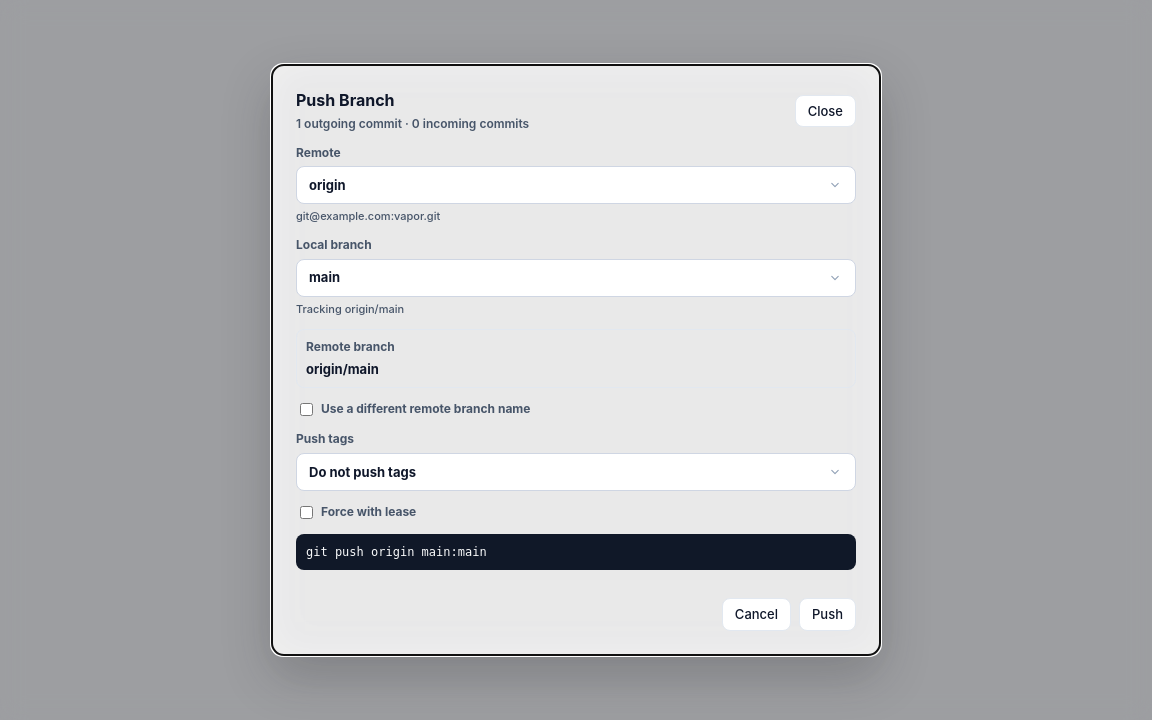
Scenario: PushDialog › shows progress while pushing and closes after a successful push
This screenshot has width=1152, height=720.
Select "Push all tags" in the dropdown labelled "Push tags" at [576, 472], box [296,453,856,491]
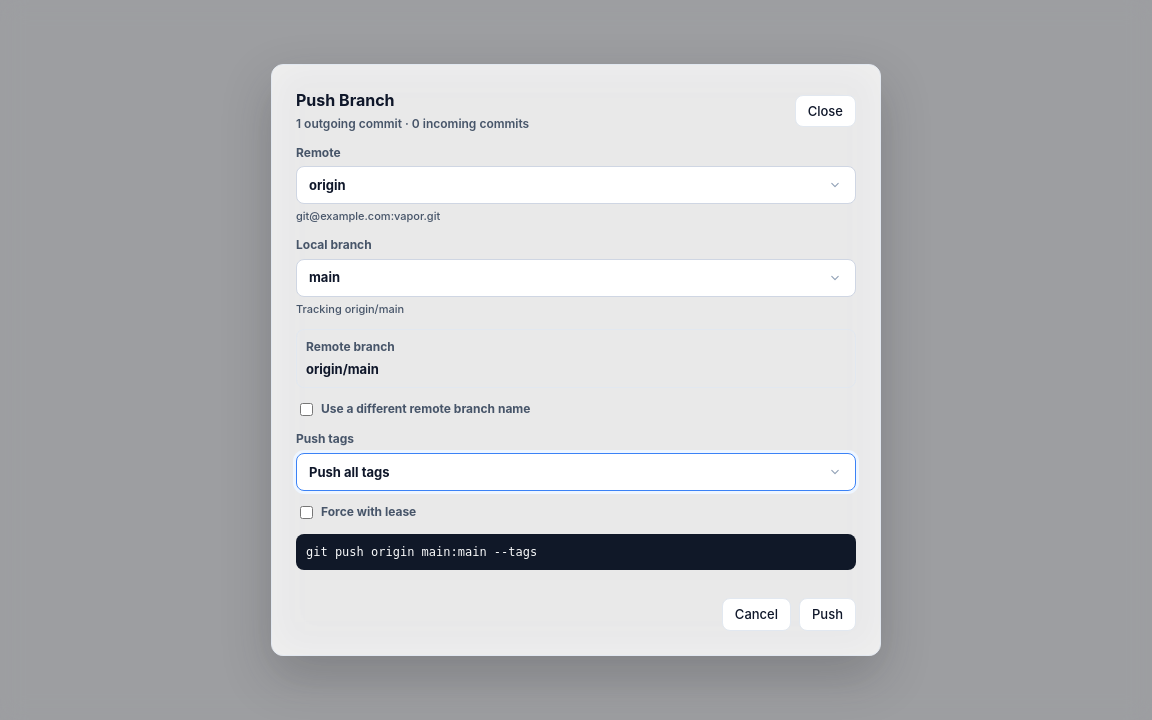
Expected: the text "git push origin main:main --tags" is shown, [296,534,856,570]
Click the button "Push" at [828, 615], box [799,598,856,631]
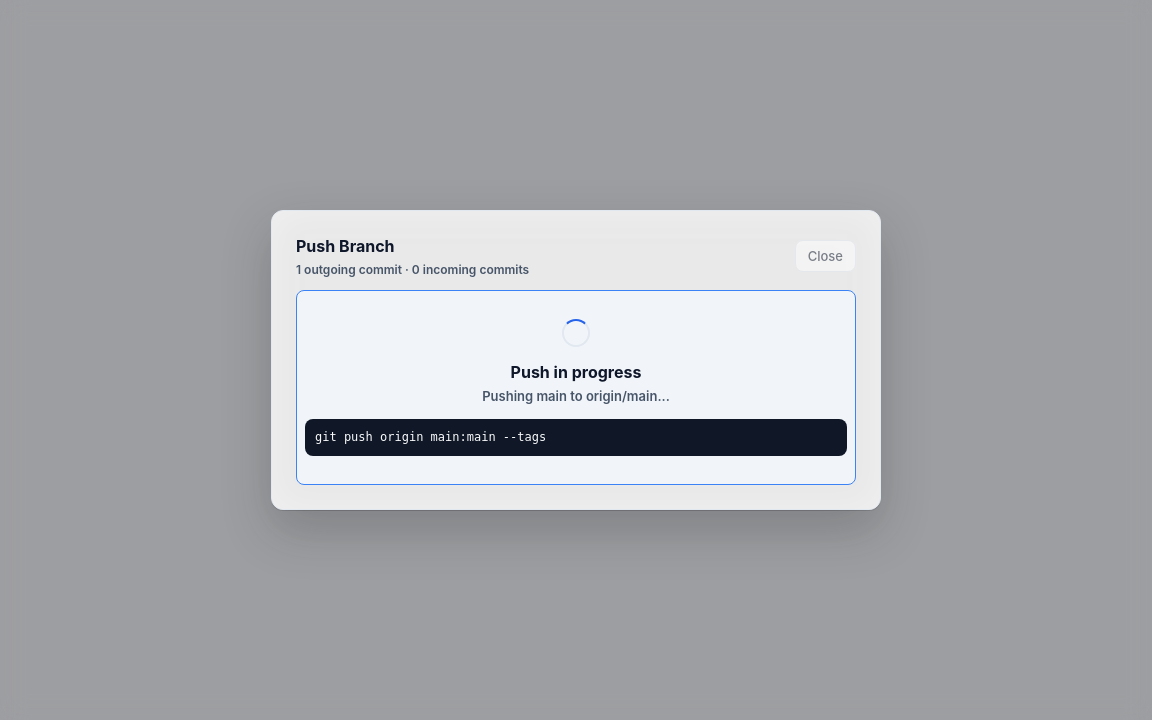
Expected: the message shows "Pushing main to origin/main...", [296,290,856,485]
Expected: the label labelled "Remote" is gone
Expected: the label labelled "Local branch" is gone
